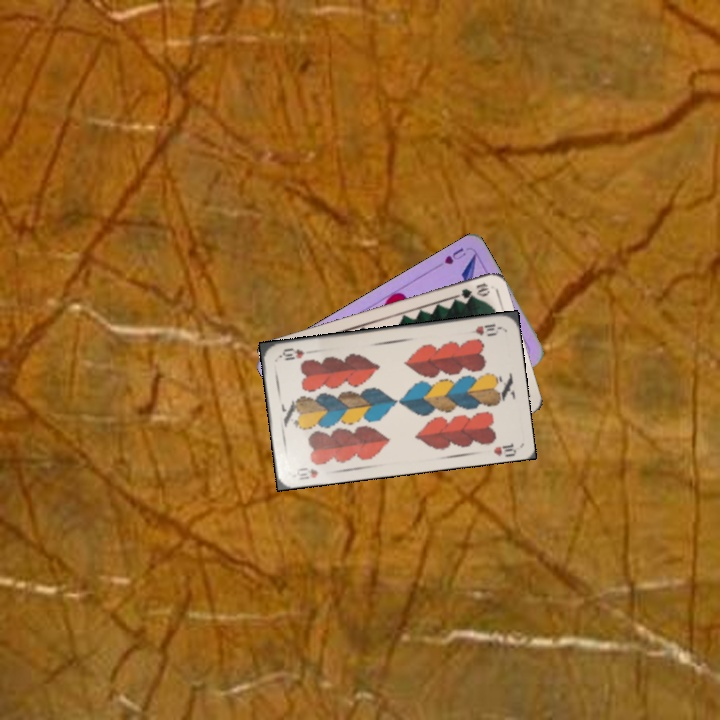G10: (452, 279, 492, 302)
H10: (463, 319, 503, 338), (292, 463, 321, 482)
HU: (440, 243, 469, 267)
